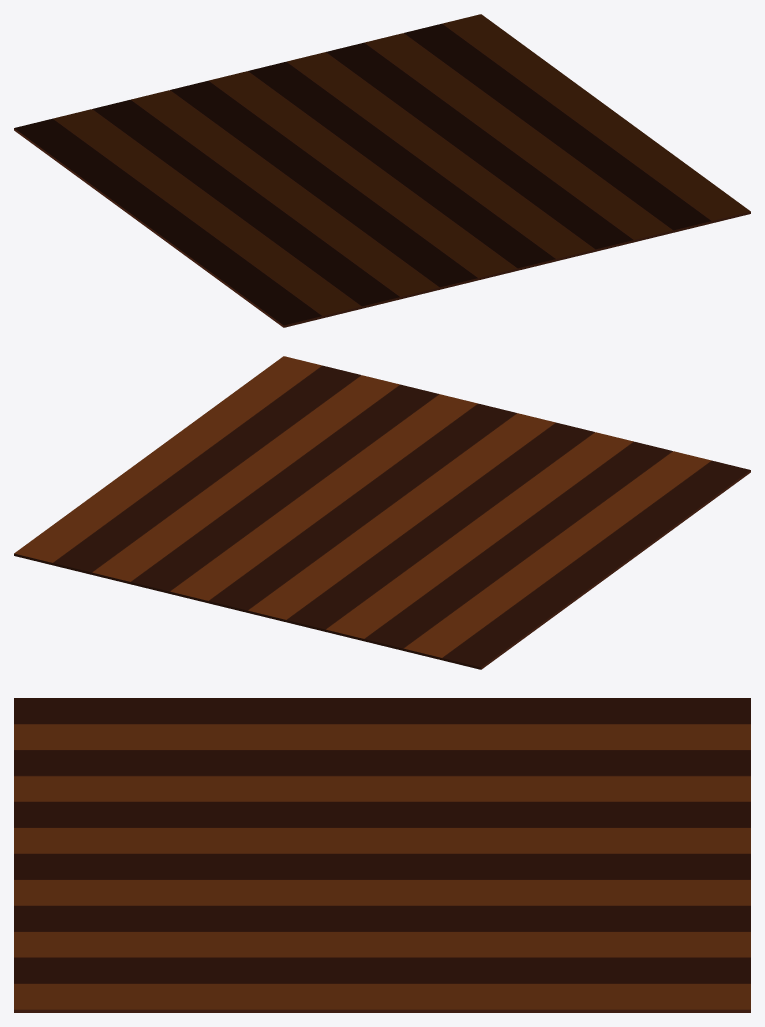
The model's file is Floor 10.fbx.
3 views of the same model, one above another, from view 1: azimuth 30°, elevation 25°; view 2: azimuth 150°, elevation 25°; view 3: azimuth 270°, elevation 25° (orthographic). The views are drawn at different scales.
Parts seen in each view (by area): view 1: Node 0; view 2: Node 0; view 3: Node 0.
Part boxes in pixels (x1,y1,x2,y2): Node 0: (14, 14, 750, 327); Node 0: (14, 356, 750, 669); Node 0: (14, 698, 750, 1012).
Size of the model in its own units: 5.21 by 0.0254 by 5.21.
